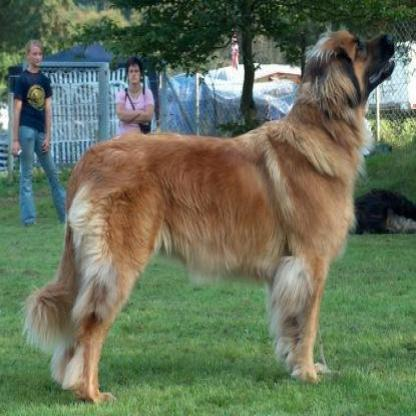Leonberg: (19, 25, 397, 401)
